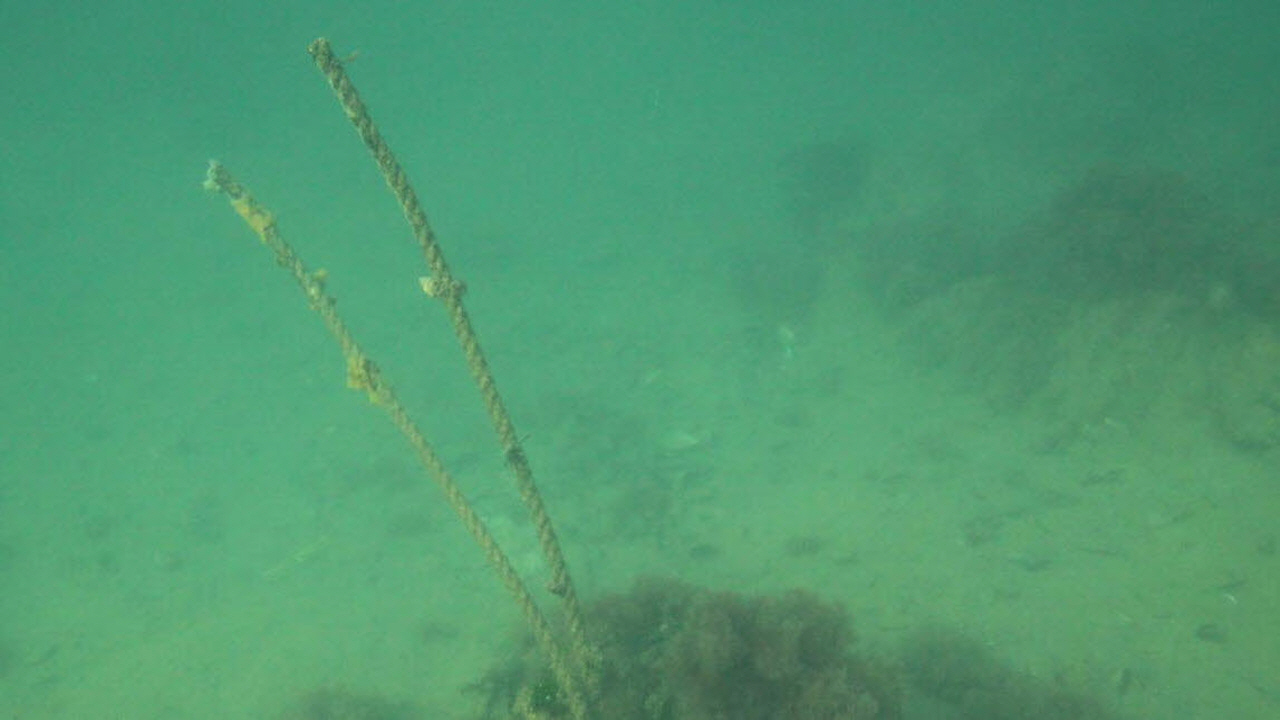rope: (218, 176, 597, 720), (311, 39, 593, 684)
